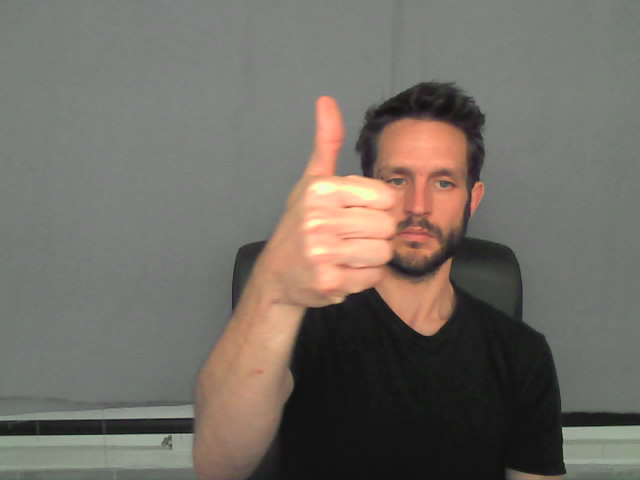thumbsup: (272, 96, 396, 307)
